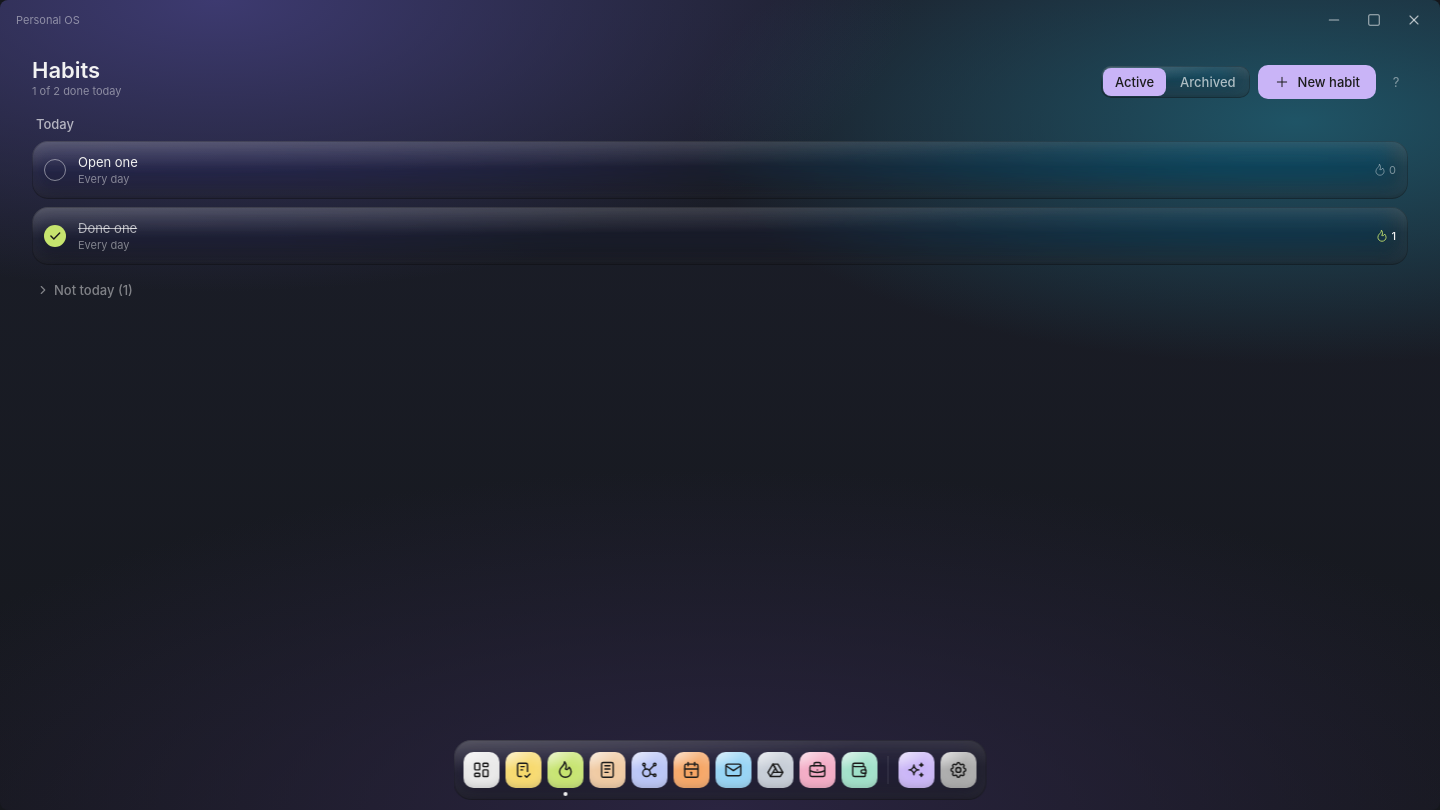
Test: today list › lists undone habits first, then done, and hides the ones not due in Not today
Check: the element "Open one" is shown, box [32,141,1408,199]
Check: the text "1 of 2 done today" is shown, box [32,84,122,99]
Click the button "Not today (1)" at [84, 290], box [32,281,137,299]
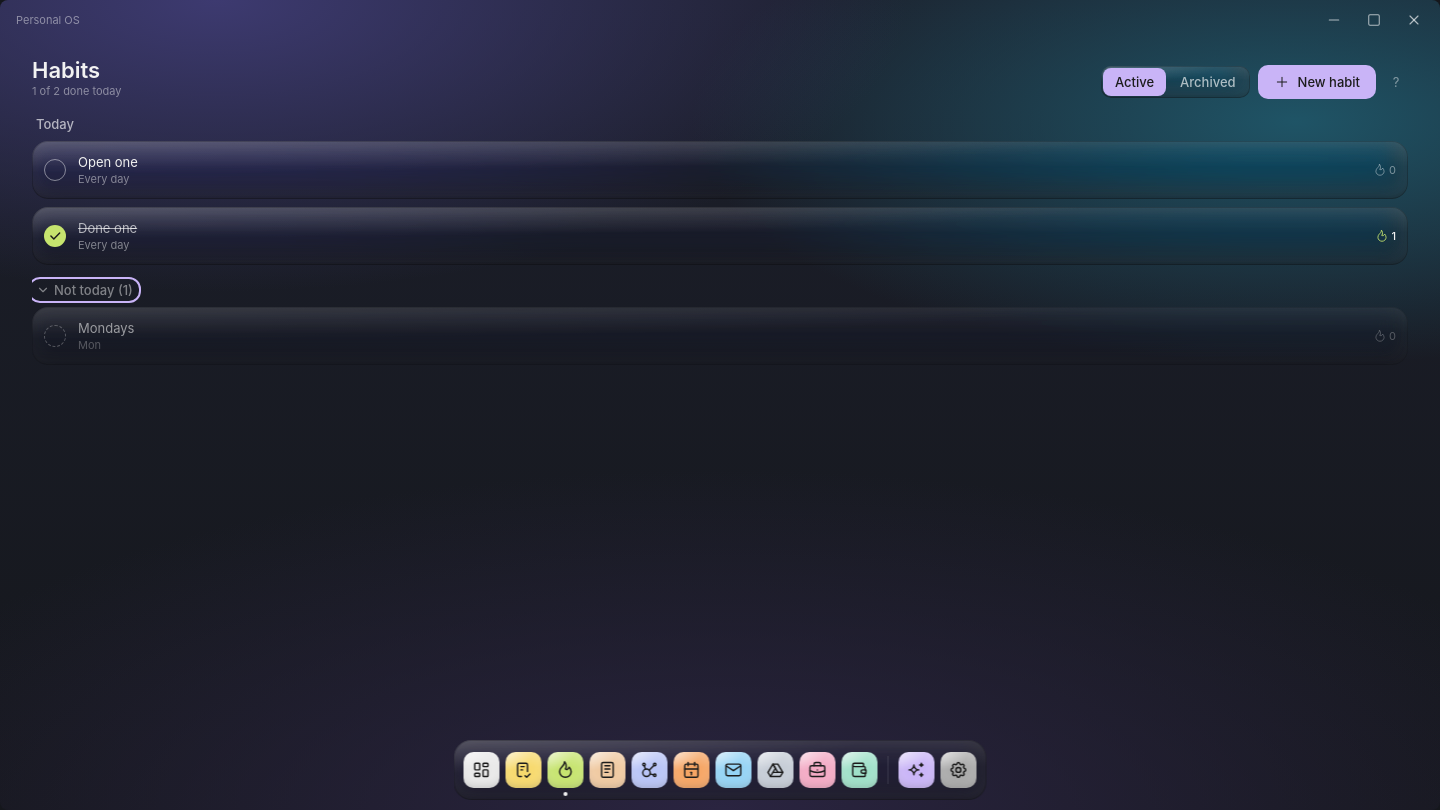
Check: the element "Mondays" is shown, box [32,307,1408,365]
